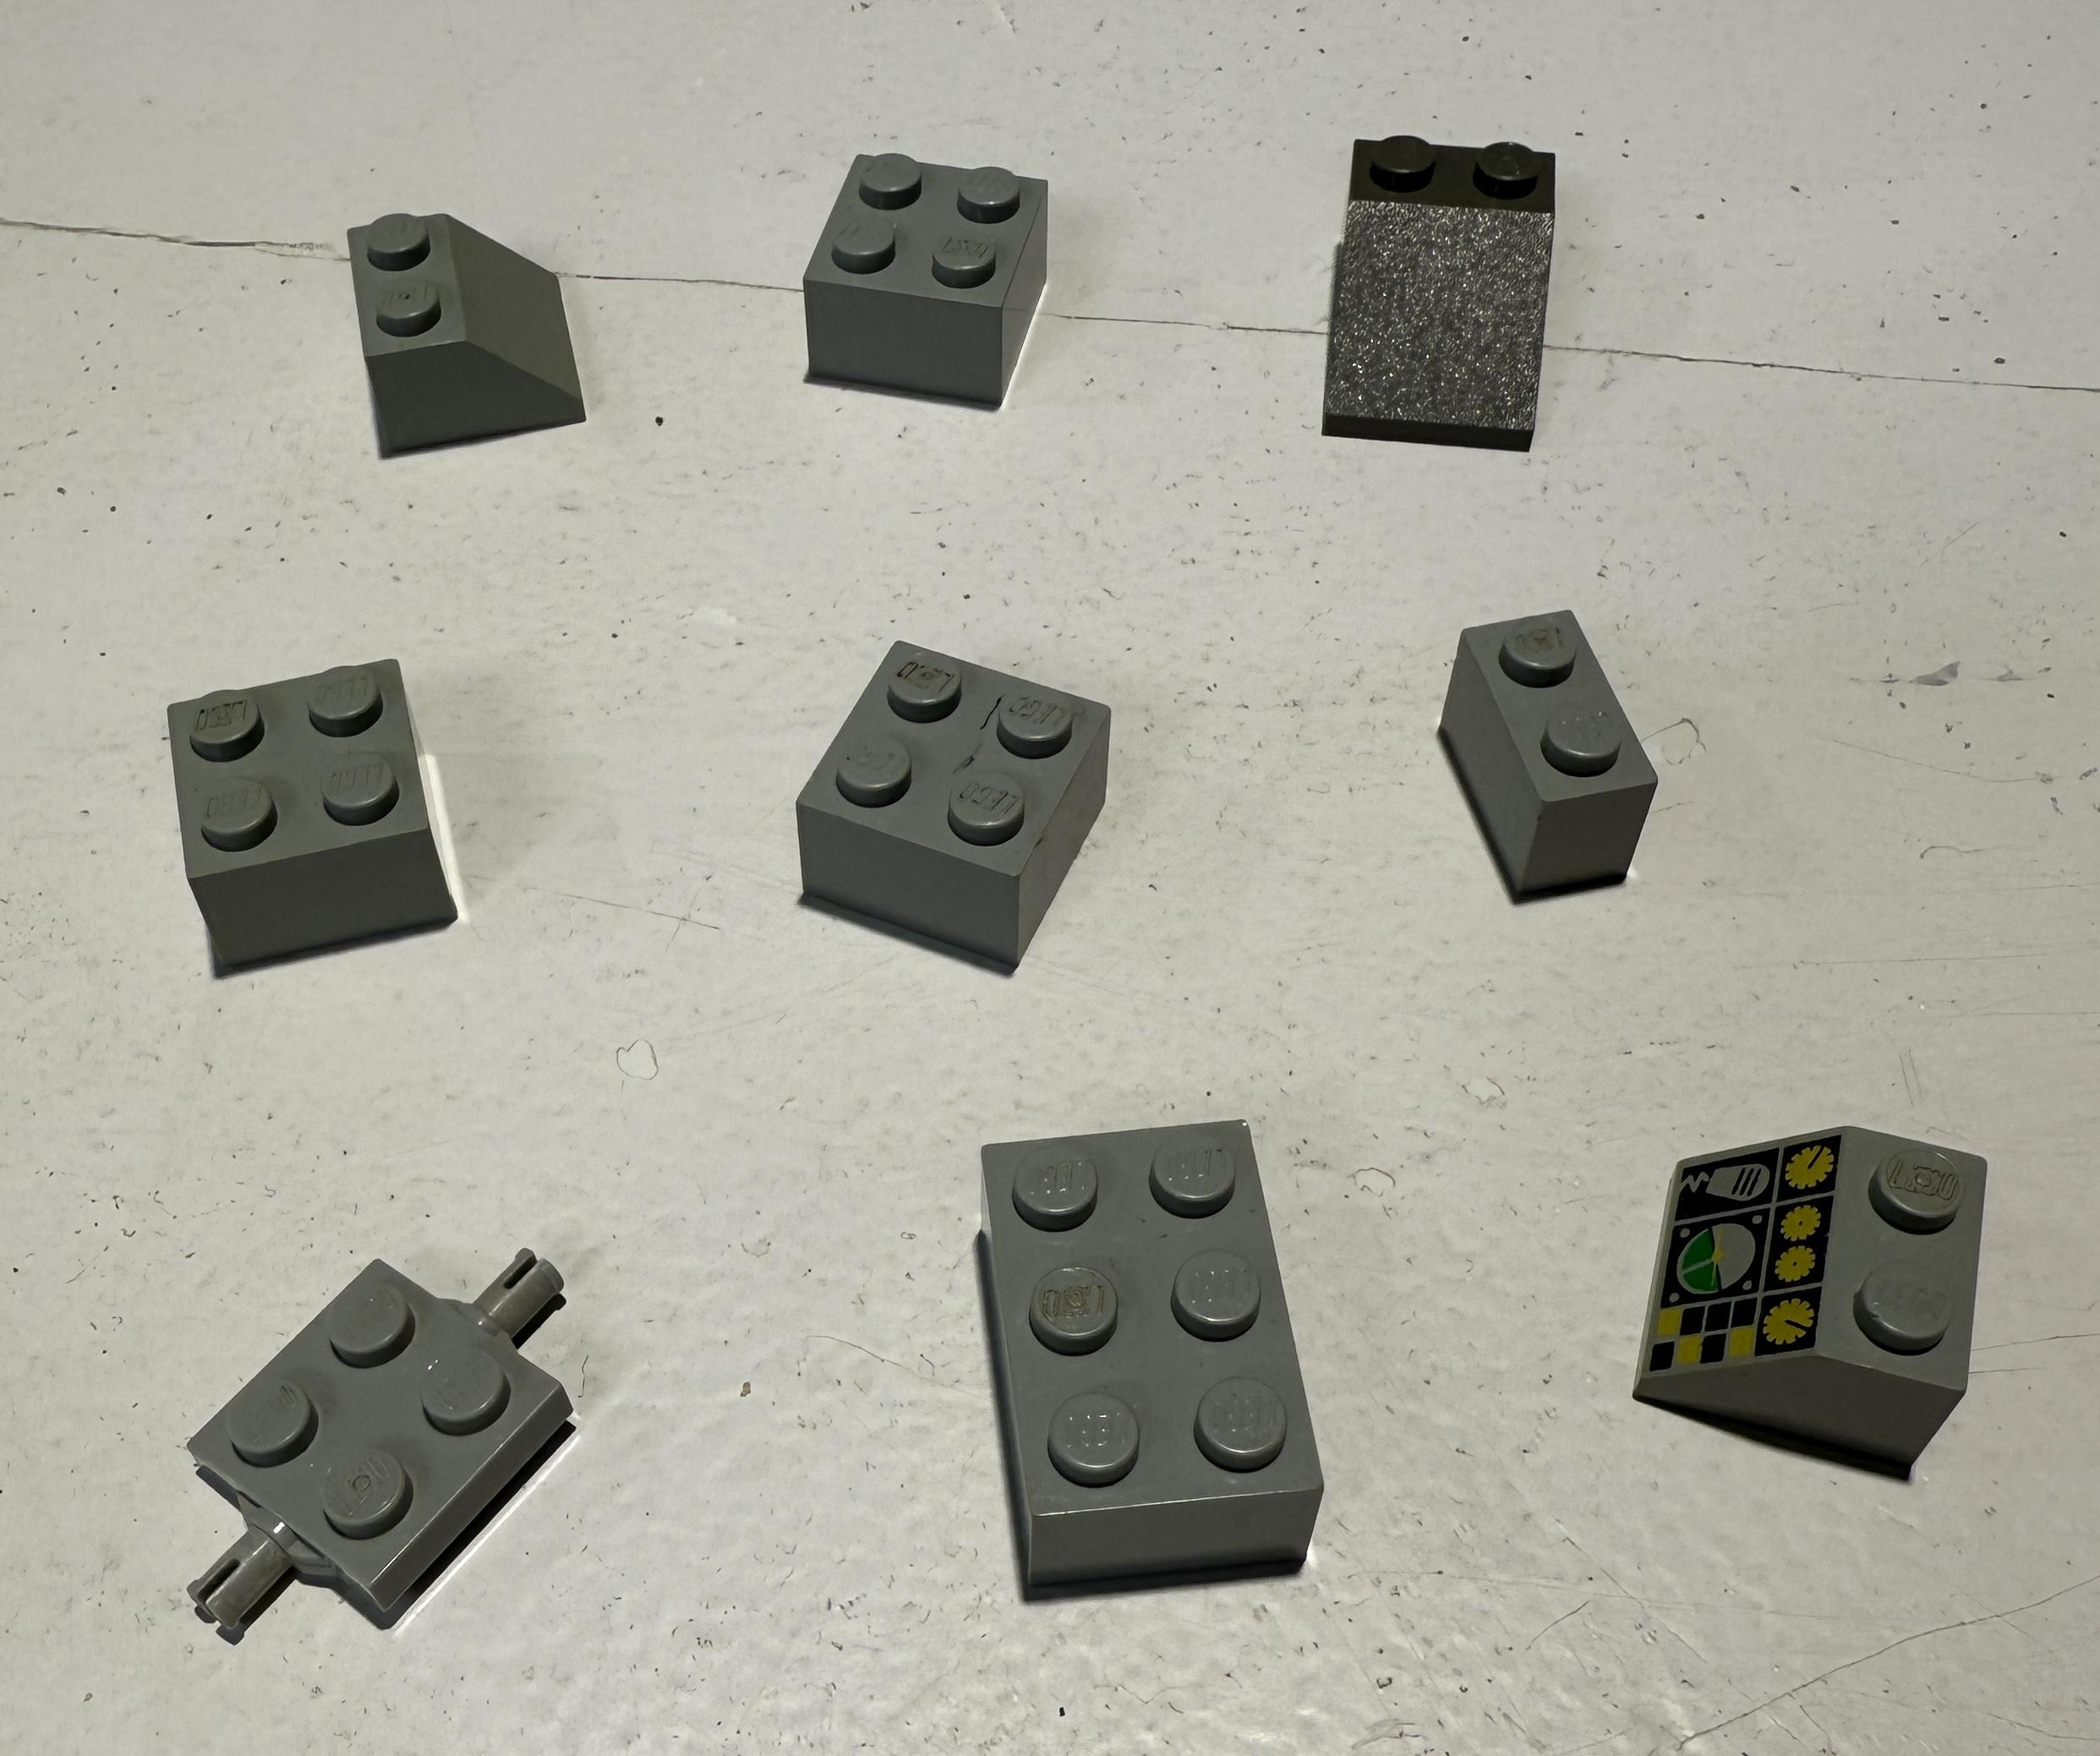Special_02: (319, 167, 602, 492)
brick_1x2: (1418, 565, 1688, 940)
brick_2x2: (127, 607, 506, 992), (787, 602, 1123, 968), (781, 117, 1064, 438)
brick_2x3: (930, 1072, 1366, 1618)
